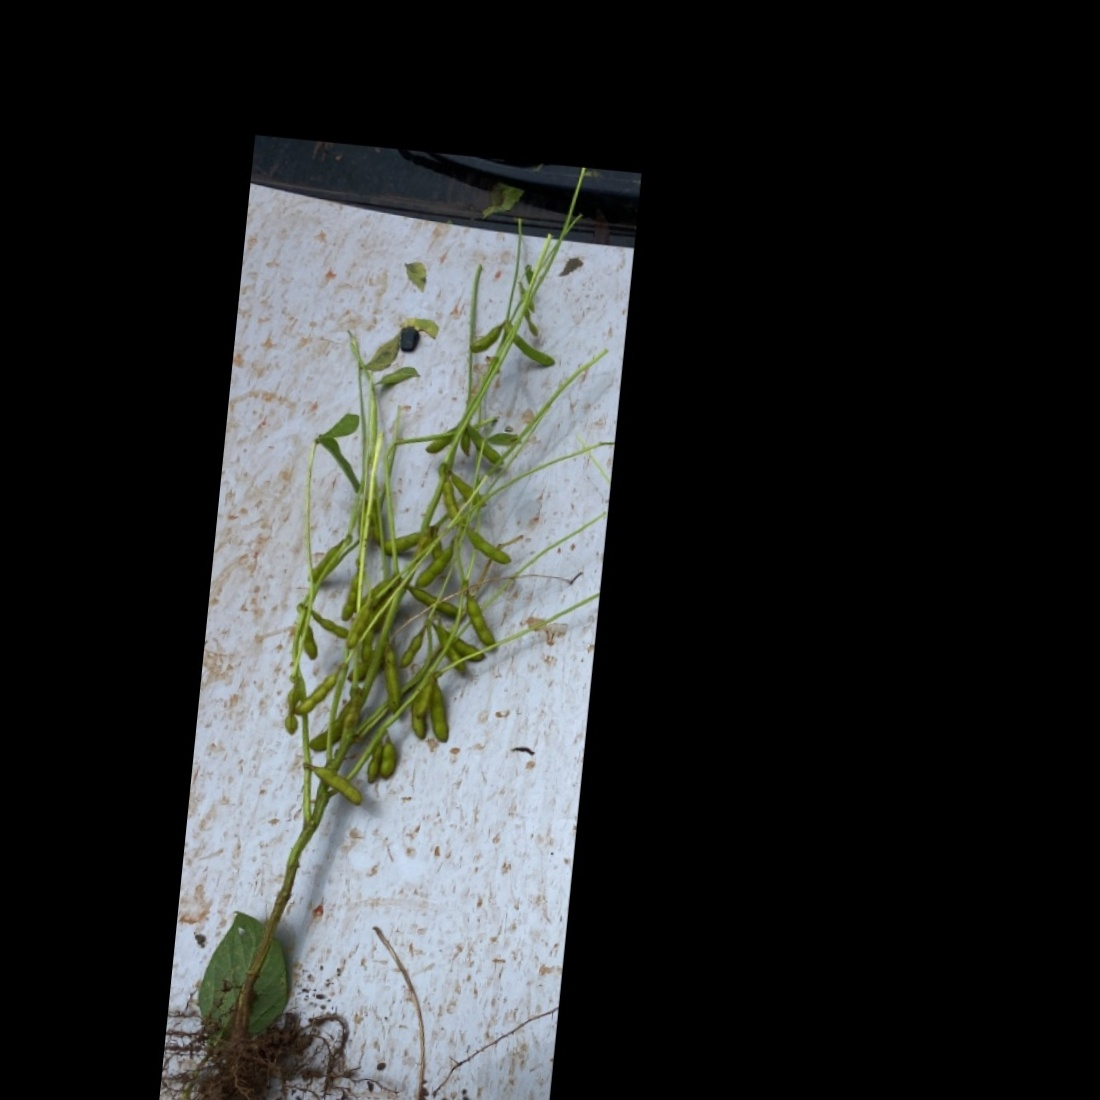pod: (310, 760, 366, 808), (297, 664, 343, 721), (462, 598, 504, 653), (415, 543, 455, 591), (464, 528, 513, 564), (378, 650, 405, 714), (513, 334, 559, 370), (427, 686, 454, 744), (470, 316, 505, 354), (399, 627, 427, 670), (281, 686, 302, 737), (312, 614, 351, 639), (365, 739, 382, 786), (380, 738, 398, 782), (303, 629, 323, 663), (522, 311, 541, 338)
soy: (185, 199, 579, 1100)
